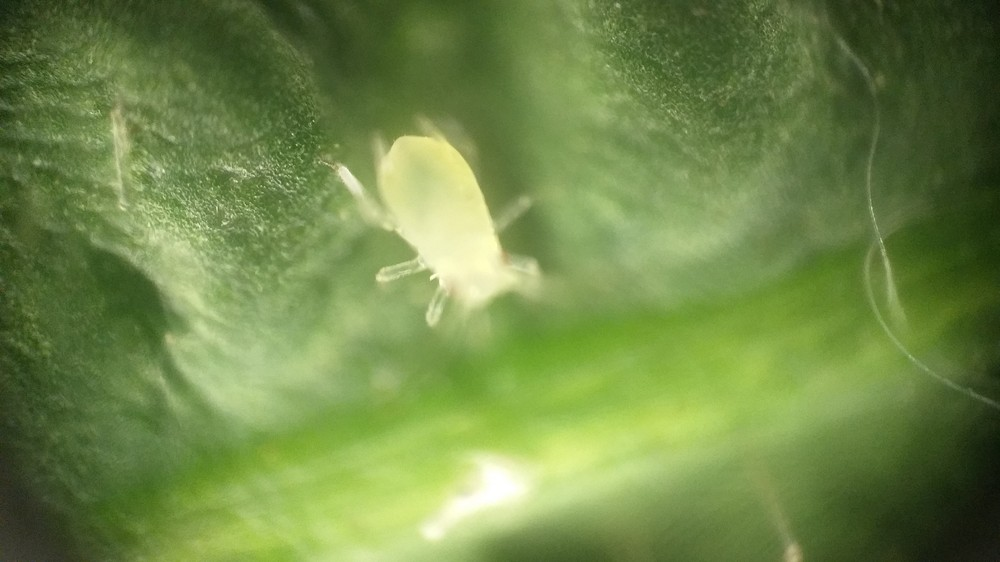Pulgon: (321, 109, 596, 368)
